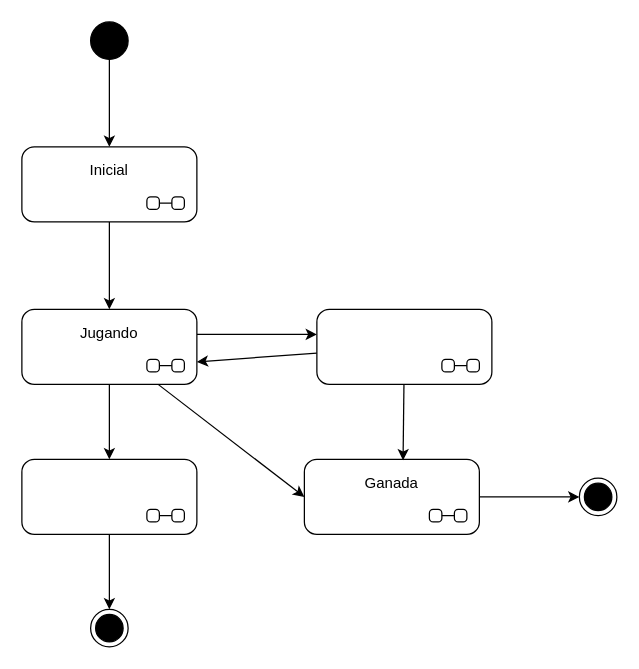
Image size: 639x669. Some labels were removed from this diagram. The box of each missing label's shape, as (x1, y1, x2, y2) in pixels:
Jaque: (316, 308, 492, 384)
Tablas: (21, 458, 197, 534)
